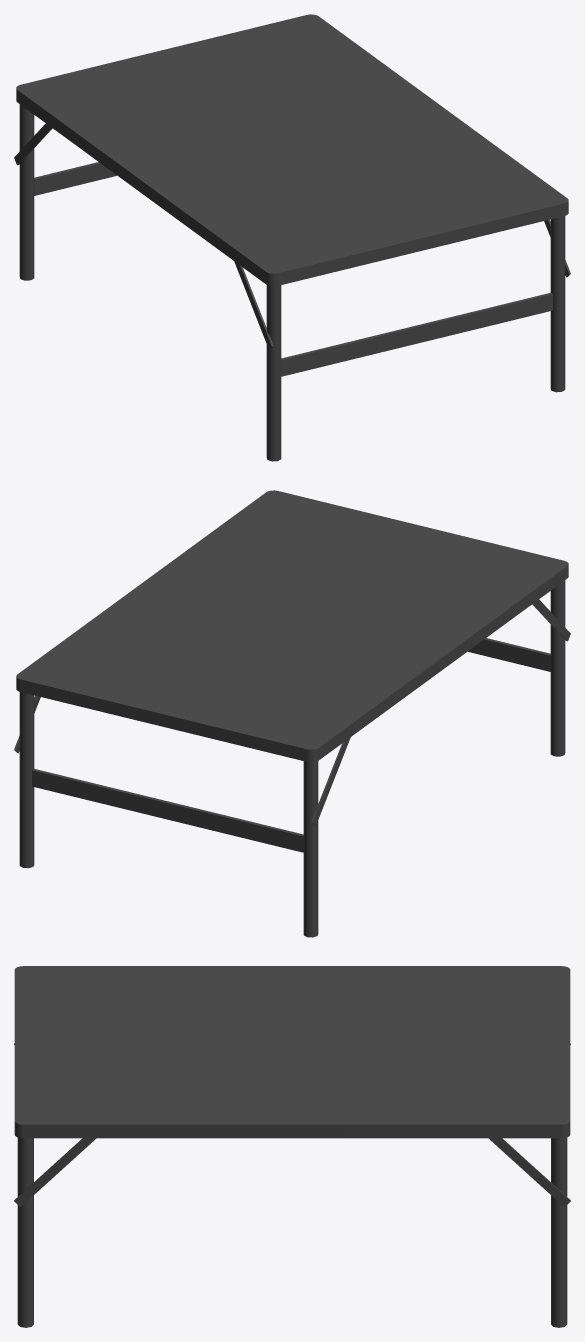
The model's file is pi_tabel01.gltf.
The picture shows the model from 3 angles, top to bottom: view 1: azimuth 30°, elevation 25°; view 2: azimuth 150°, elevation 25°; view 3: azimuth 270°, elevation 25°; orthographic projection. The views are drawn at different scales.
Visible parts, largest first — view 1: pi_tabel01; view 2: pi_tabel01; view 3: pi_tabel01.
Boxes of the visible parts, x1,y1,x2,y2 form: pi_tabel01: (14,14,570,461); pi_tabel01: (14,490,570,937); pi_tabel01: (14,966,570,1327).
Bounding box in the file's own units: 1.25 × 0.75 × 1.85.
Materials: 1 (1 with a texture image).
